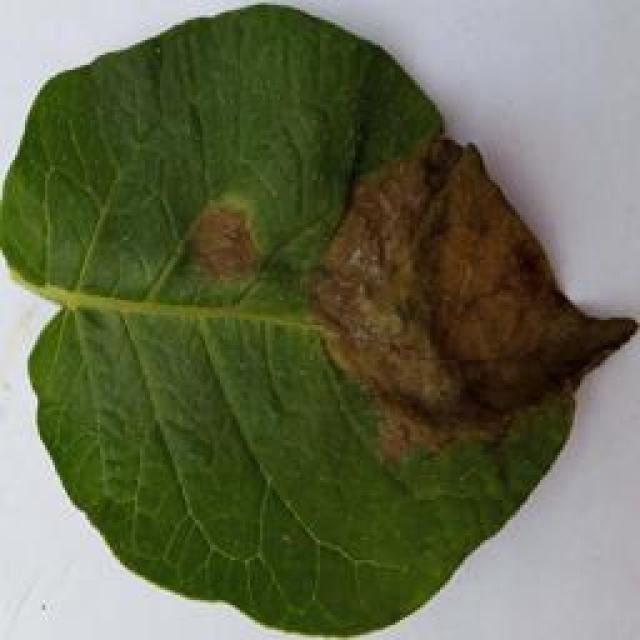Potato_Late_Blight: (9, 4, 635, 633), (366, 2, 637, 127)
